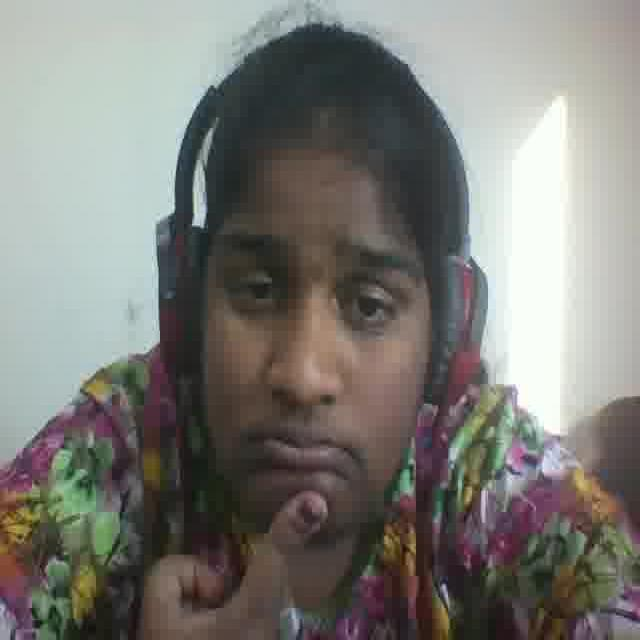Boredom: (189, 136, 425, 551)
